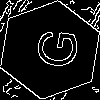G: (25, 25, 80, 71)
